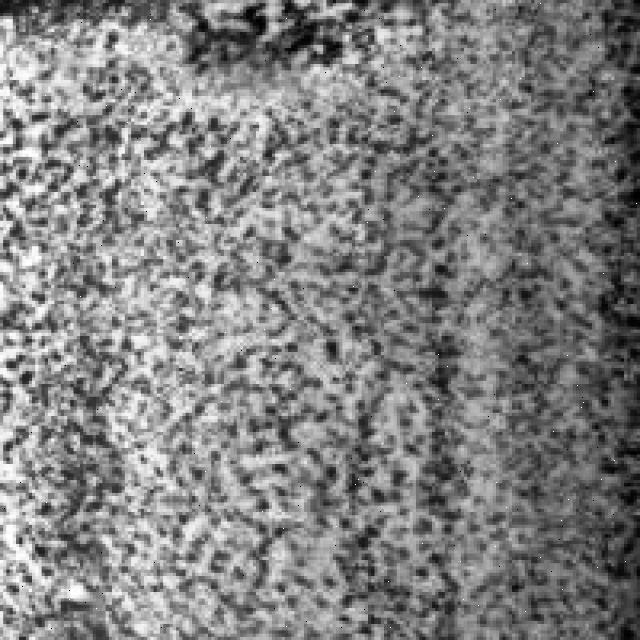Rolled_in_Scale: (0, 0, 634, 634), (172, 0, 394, 77)
